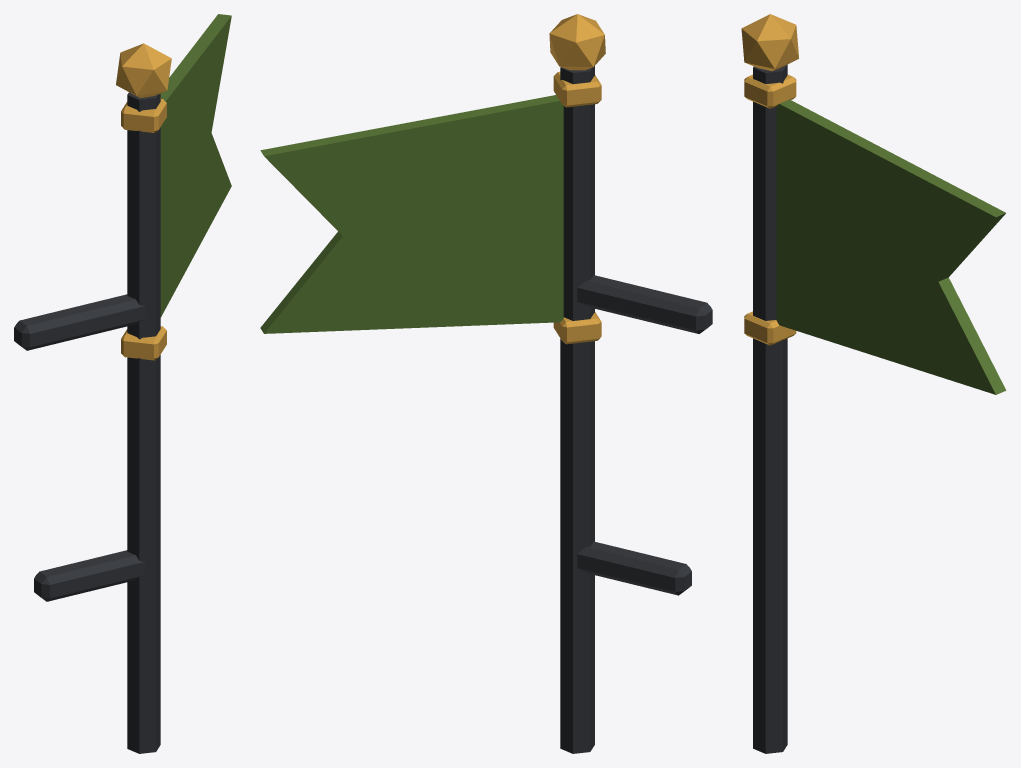
The model's file is SniperKit7.obj.
3 views of the same model, side by side, from view 1: azimuth 30°, elevation 25°; view 2: azimuth 150°, elevation 25°; view 3: azimuth 270°, elevation 25° (orthographic). The views are drawn at different scales.
Visible parts, largest first — view 1: SniperKit7; view 2: SniperKit7; view 3: SniperKit7.
Part boxes in pixels (<box>): SniperKit7: <box>14,14,231,753</box>; SniperKit7: <box>260,14,712,753</box>; SniperKit7: <box>741,14,1006,753</box>.
Size of the model in its own units: 0.4747 by 0.99 by 0.3245.
